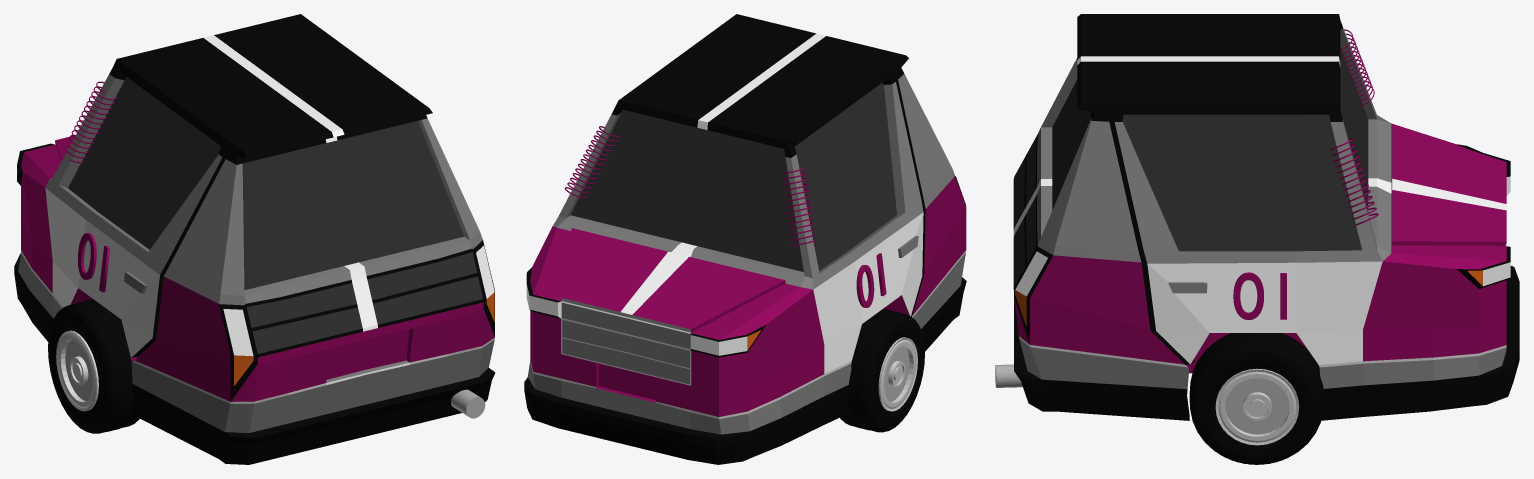
Rendered from CR-CAR-20A.fbx.
The picture shows the model from 3 angles, left to right: view 1: azimuth 30°, elevation 25°; view 2: azimuth 150°, elevation 25°; view 3: azimuth 270°, elevation 25°; orthographic projection. The views are drawn at different scales.
Visible parts, largest first — view 1: Body, WHEEL.02, Text.001; view 2: Body, WHEEL.02, Text.001; view 3: Body, WHEEL.01, Text.
Boxes of the visible parts, left/top/right/bottom form: Body: left=14, top=14, right=495, bottom=464; WHEEL.02: left=48, top=299, right=139, bottom=433; Text.001: left=78, top=233, right=109, bottom=292; Body: left=524, top=14, right=966, bottom=464; WHEEL.02: left=840, top=308, right=924, bottom=432; Text.001: left=856, top=253, right=886, bottom=307; Body: left=995, top=14, right=1519, bottom=420; WHEEL.01: left=1189, top=333, right=1324, bottom=464; Text: left=1233, top=272, right=1286, bottom=319.
Bounding box in the file's own units: 110 × 98.28 × 144.
